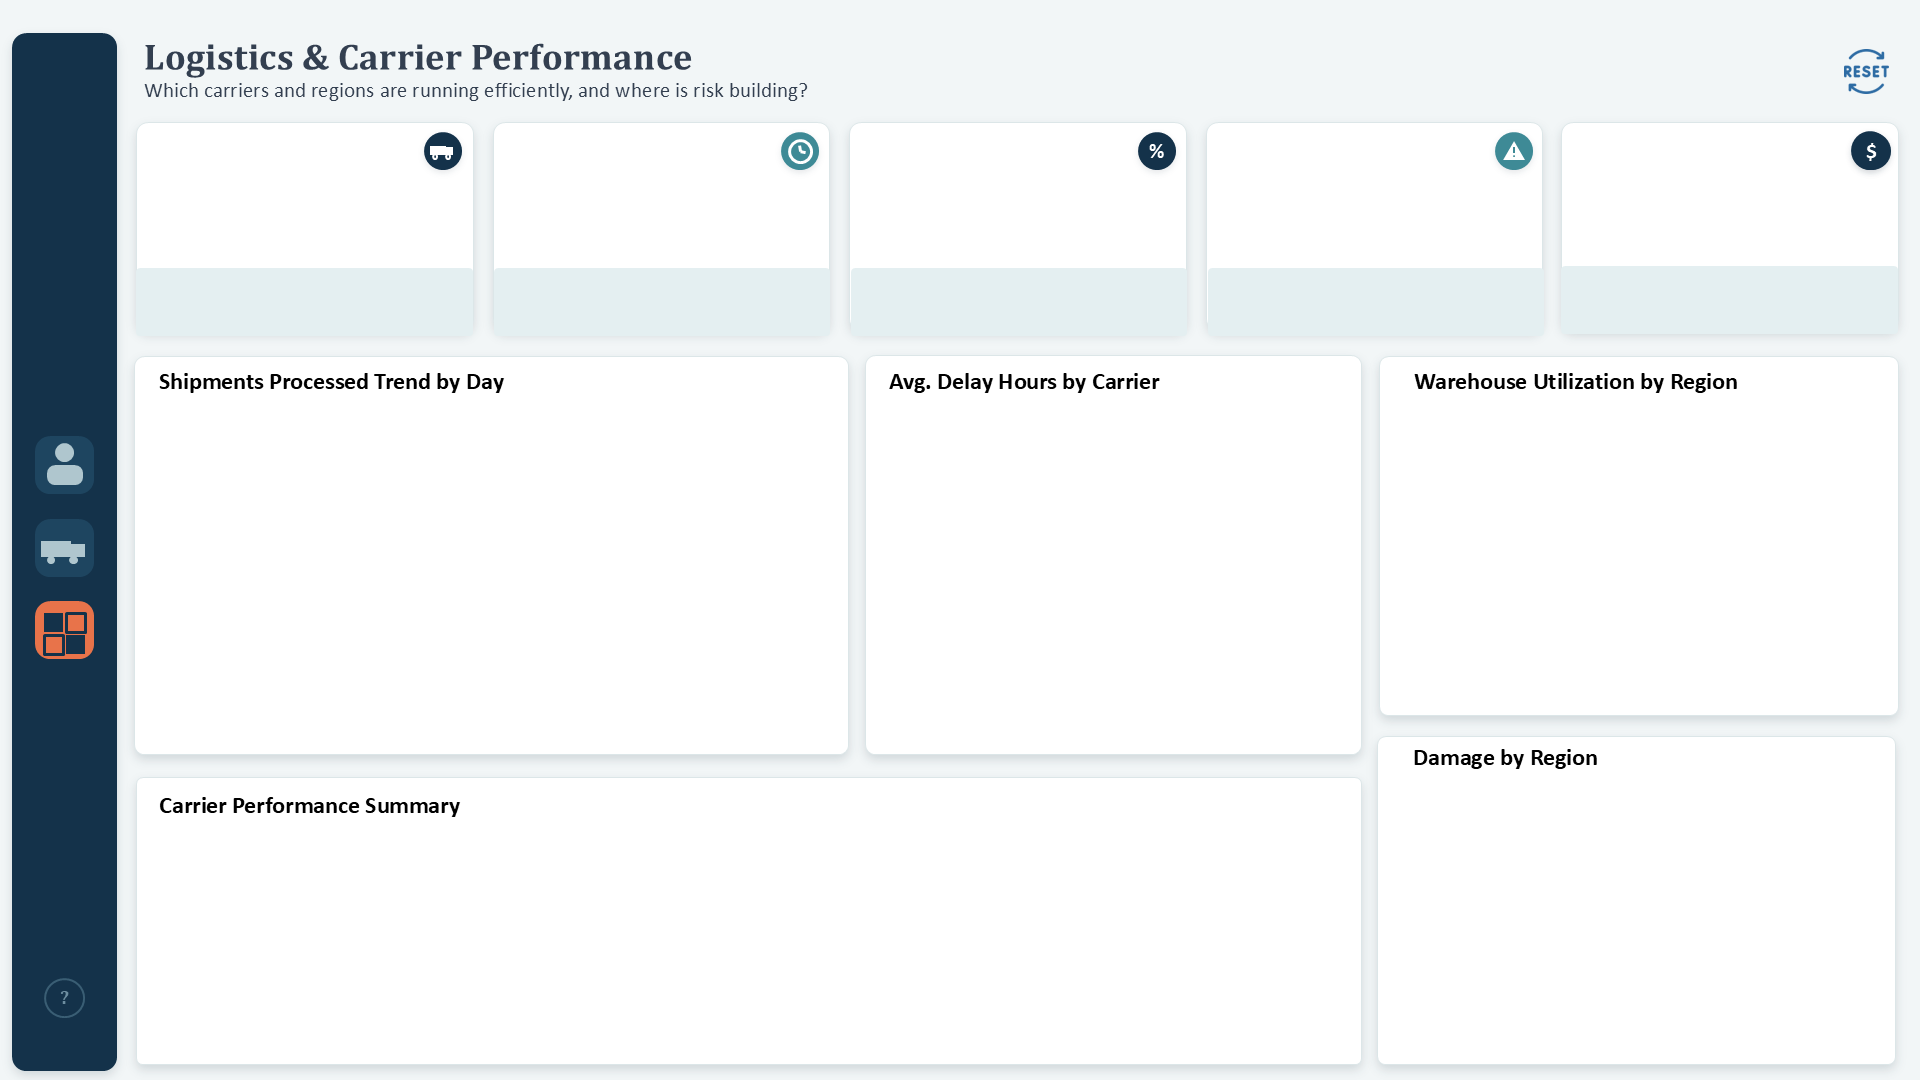

This screenshot's page, from the dashboard's own definition file:
{"tool":"powerbi","page":{"name":"Logistic","canvas":[1280,720],"ordinal":2},"visuals":[{"type":"cardVisual","fields":{"Data":["Measures_.Total Shipments Processed","Measures_.Avg Delay Hours","Measures_.Avg Warehouse Utilization %","Measures_.Total Damage Claims","Measures_.Avg Fuel Price ($/Barrel)"]},"box":[71.6,63.4,1208.5,206.6],"z":0},{"type":"lineClusteredColumnComboChart","fields":{"Category":["Calendar.WeekdayShort"],"Y":["select"],"Y2":["Measures_.Total Shipments Processed","select1"]},"box":[90.9,255.9,470.9,249.8],"z":1000},{"type":"clusteredBarChart","fields":{"Category":["Dim_Carrier.carrier"],"Y":["Measures_.Avg Delay Hours"]},"box":[573.9,243.8,364.9,277.1],"z":2000},{"type":"donutChart","fields":{"Category":["Dim_Region.region"],"Y":["Measures_.Avg Warehouse Utilization %"]},"box":[870.2,268.4,343.2,226.1],"z":3000,"group":"g1"},{"type":"advancedSlicerVisual","fields":{"Values":["Dim_Region.region"]},"box":[1148.3,312.3,128.5,156.1],"z":3000},{"type":"donutChart","fields":{"Category":["Dim_Region.region"],"Y":["Measures_.Total Damage Claims"]},"box":[873.7,494.4,343.7,225.6],"z":4000},{"type":"donutChart","fields":{"Category":["Dim_Region.region"],"Y":["Measures_.Avg Warehouse Utilization %"]},"box":[907.6,296.1,268.4,172.4],"z":5000,"group":"g1"},{"type":"tableEx","fields":{"Values":["Fact_LogisticsDaily.carrier","Fact_LogisticsDaily.region","Measures_.Avg Delay Hours","Measures_.Avg Warehouse Utilization %","Measures_.Total Damage Claims","Measures_.Total Shipments Processed"]},"box":[96,544.3,814.9,175.7],"z":5000},{"type":"donutChart","fields":{"Category":["Dim_Region.region"],"Y":["Measures_.Avg Warehouse Utilization %"]},"box":[911.6,520.9,268,172.6],"z":6000},{"type":"group","id":"g1","title":"Group 1","box":[870.2,268.4,343.2,226.1],"z":7000},{"type":"advancedSlicerVisual","fields":{"Values":["Dim_Region.region"]},"box":[1141.7,563.3,128.7,139.3],"z":8000},{"type":"actionButton","box":[870.7,517.9,33.3,28.8],"z":9000},{"type":"actionButton","box":[878.2,237.7,33.3,28.8],"z":10000},{"type":"actionButton","box":[1232.6,240.8,33.3,28.8],"z":11000},{"type":"actionButton","box":[1229,494.2,46.9,28.8],"z":12000},{"type":"actionButton","box":[531.5,236.2,33.3,28.8],"z":13000},{"type":"lineChart","fields":{"Category":["Calendar.WeekdayNumber"],"Y":["Measures_.Total Shipments Processed","select","select1"]},"box":[175.6,104.5,151.4,68.1],"z":14000},{"type":"lineChart","fields":{"Category":["Calendar.WeekdayNumber"],"Y":["Measures_.Avg Delay Hours","select","select1"]},"box":[410.3,109,151.4,68.1],"z":15000},{"type":"lineChart","fields":{"Category":["Calendar.WeekdayNumber"],"Y":["Measures_.Avg Warehouse Utilization %","select","select1"]},"box":[645.1,109,151.4,68.1],"z":16000},{"type":"lineChart","fields":{"Category":["Calendar.WeekdayNumber"],"Y":["Measures_.Total Damage Claims","select","select1"]},"box":[894.9,109,151.4,68.1],"z":17000},{"type":"lineChart","fields":{"Category":["Calendar.WeekdayNumber"],"Y":["Measures_.Avg Fuel Price ($/Barrel)","select","select1"]},"box":[1128.1,104.5,151.4,68.1],"z":18000},{"type":"advancedSlicerVisual","fields":{"Values":["Calendar.WeekdayShort"]},"box":[720.8,12.1,501.2,57.5],"z":19000},{"type":"actionButton","box":[1223.5,22.7,42.4,43.9],"z":20000},{"type":"pageNavigator","box":[16.7,280.1,51.5,162],"z":21000},{"type":"cardVisual","fields":{"Data":["Measures_.Base"]},"box":[869.2,514.8,33.3,33.3],"z":22000},{"type":"cardVisual","fields":{"Data":["Measures_.Base"]},"box":[530,234.7,33.3,33.3],"z":23000},{"type":"cardVisual","fields":{"Data":["Measures_.Base"]},"box":[875.2,234.7,33.3,33.3],"z":24000},{"type":"cardVisual","fields":{"Data":["Measures_.Base"]},"box":[1229.5,239.2,33.3,33.3],"z":25000},{"type":"image","box":[1000.3,330.2,84.6,99.2],"z":25001},{"type":"image","box":[1003.6,557.9,84.6,99.2],"z":25002}]}

Visuals, with their boxes on the page's 1280x720 design canvas (x1, y1, x2, y2). These are canvas units, not pixel positions in the 1920x1080 screenshot, which may show the page scaled, cropped or inside an application window:
cardVisual - Measures_.Total Shipments Processed x Measures_.Avg Delay Hours: 72:63:1280:270
lineClusteredColumnComboChart - Calendar.WeekdayShort x select: 91:256:562:506
clusteredBarChart - Dim_Carrier.carrier x Measures_.Avg Delay Hours: 574:244:939:521
donutChart - Dim_Region.region x Measures_.Avg Warehouse Utilization %: 870:268:1213:494
advancedSlicerVisual - Dim_Region.region: 1148:312:1277:468
donutChart - Dim_Region.region x Measures_.Total Damage Claims: 874:494:1217:720
donutChart - Dim_Region.region x Measures_.Avg Warehouse Utilization %: 908:296:1176:468
tableEx - Fact_LogisticsDaily.carrier x Fact_LogisticsDaily.region: 96:544:911:720
donutChart - Dim_Region.region x Measures_.Avg Warehouse Utilization %: 912:521:1180:694
"Group 1" group: 870:268:1213:494
advancedSlicerVisual - Dim_Region.region: 1142:563:1270:703
actionButton: 871:518:904:547
actionButton: 878:238:912:266
actionButton: 1233:241:1266:270
actionButton: 1229:494:1276:523
actionButton: 532:236:565:265
lineChart - Calendar.WeekdayNumber x Measures_.Total Shipments Processed: 176:104:327:173
lineChart - Calendar.WeekdayNumber x Measures_.Avg Delay Hours: 410:109:562:177
lineChart - Calendar.WeekdayNumber x Measures_.Avg Warehouse Utilization %: 645:109:796:177
lineChart - Calendar.WeekdayNumber x Measures_.Total Damage Claims: 895:109:1046:177
lineChart - Calendar.WeekdayNumber x Measures_.Avg Fuel Price ($/Barrel): 1128:104:1280:173
advancedSlicerVisual - Calendar.WeekdayShort: 721:12:1222:70
actionButton: 1224:23:1266:67
pageNavigator: 17:280:68:442
cardVisual - Measures_.Base: 869:515:902:548
cardVisual - Measures_.Base: 530:235:563:268
cardVisual - Measures_.Base: 875:235:908:268
cardVisual - Measures_.Base: 1230:239:1263:272
image: 1000:330:1085:429
image: 1004:558:1088:657
